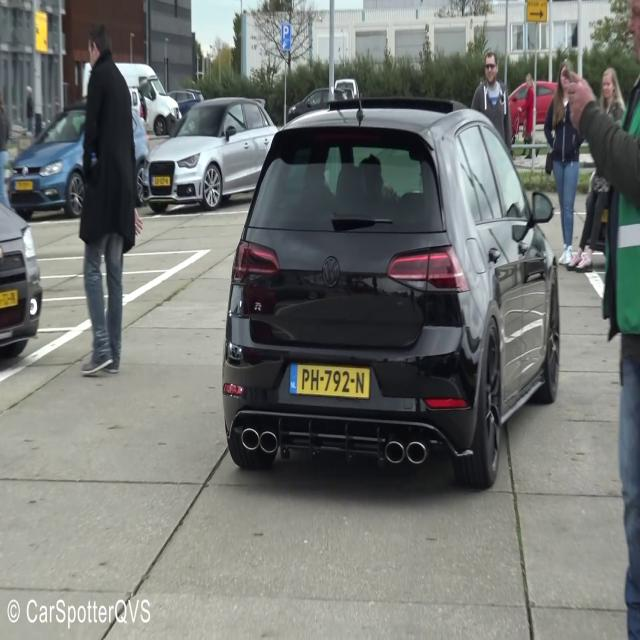num_plate: (286, 361, 374, 400)
